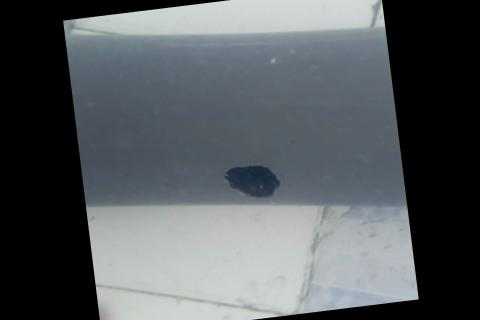kebocoran: (220, 159, 284, 204)
